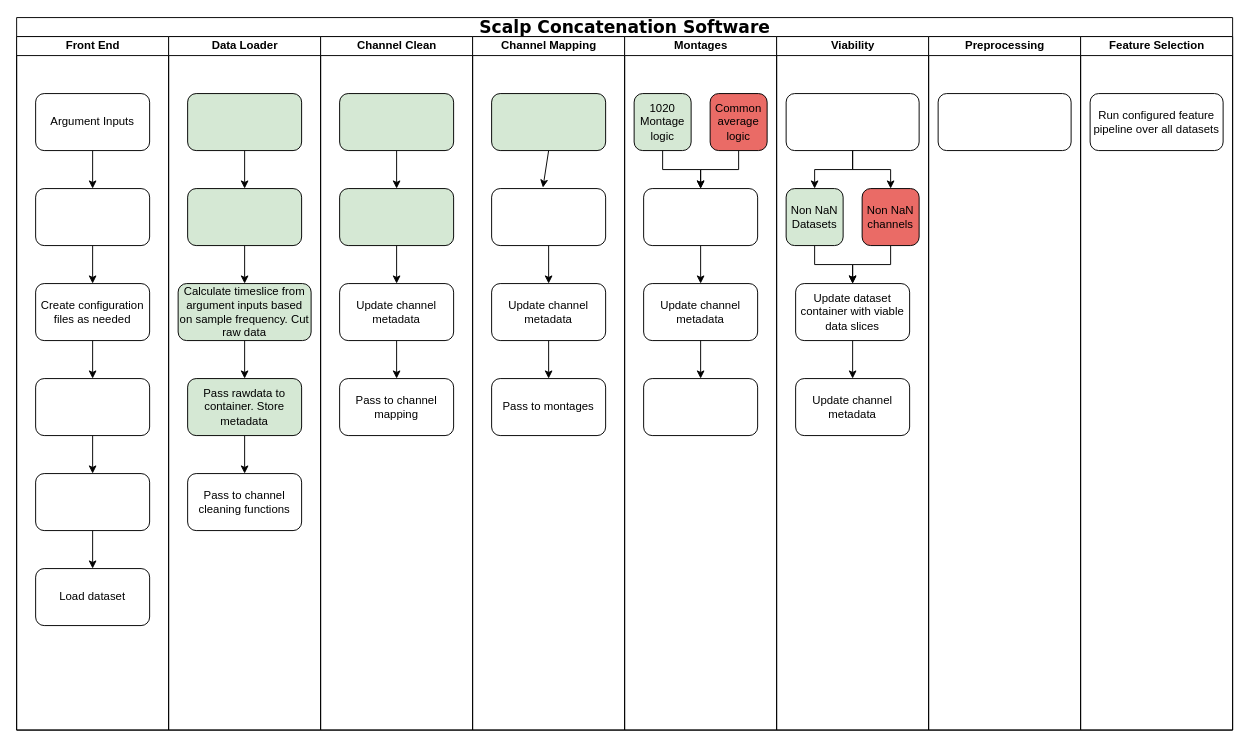
Image size: 1249x747. Some labels were removed from this diagram. The shapes that lost their labels are listed below. From the top down, each one's centre as x and y in pixels, then its label:
At point (244, 122): "EDF Loader".
At point (396, 122): "HUP Channel Cleaning".
At point (548, 122): "HUP 1020 Channels".
At point (852, 122): "If requested, data interpolate over single/few NaNs".
At point (1004, 122): "Run configured preprocessing pipeline over all datasets".
At point (92, 217): "Dataset pathing established".
At point (244, 217): "Read in raw data, channels, sample frequency".
At point (396, 217): "CNT_Research_Tools invocation.".
At point (548, 217): "Select appropriate channels, drop the rest.".
At point (700, 217): "Create new container object with montage data".
At point (92, 407): "Create containers to manage data through pipeline".
At point (700, 407): "Store to pipeline container of all datasets.".
At point (92, 502): "Dataset level handler based on filetype".
